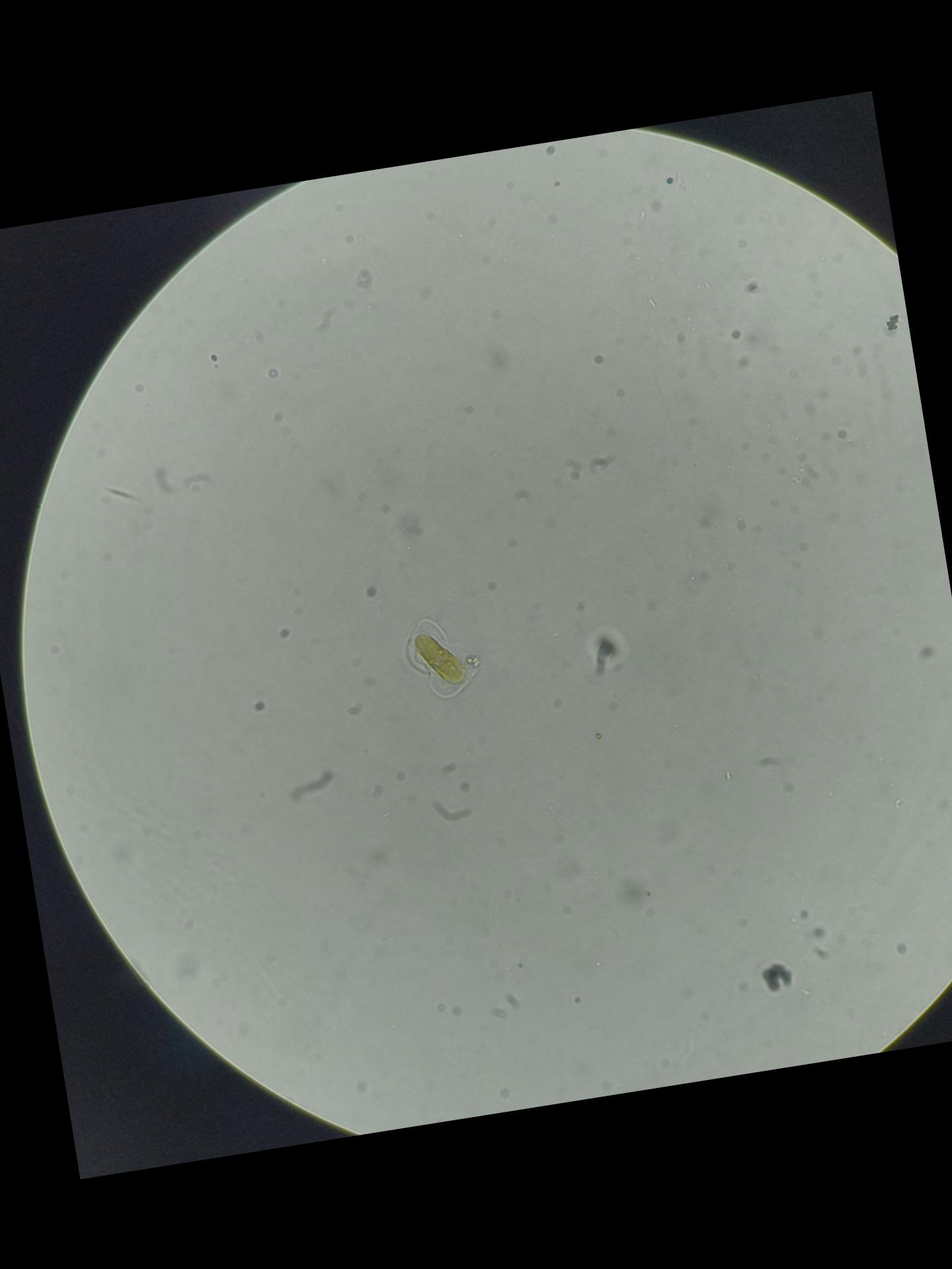Euglena: (396, 597, 495, 709)
